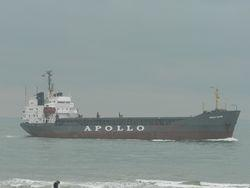Cargoship: (17, 69, 242, 141)
